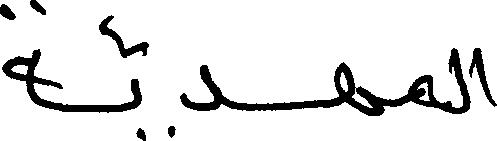X: (0, 0, 38, 109), (335, 57, 382, 120), (180, 60, 220, 115), (473, 43, 496, 111), (450, 43, 469, 118), (131, 37, 142, 140), (411, 70, 434, 112)
